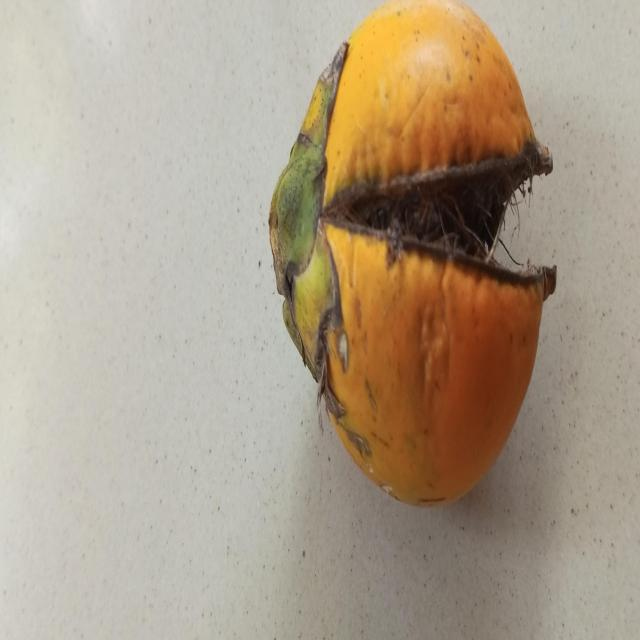damaged: (269, 0, 556, 504)
